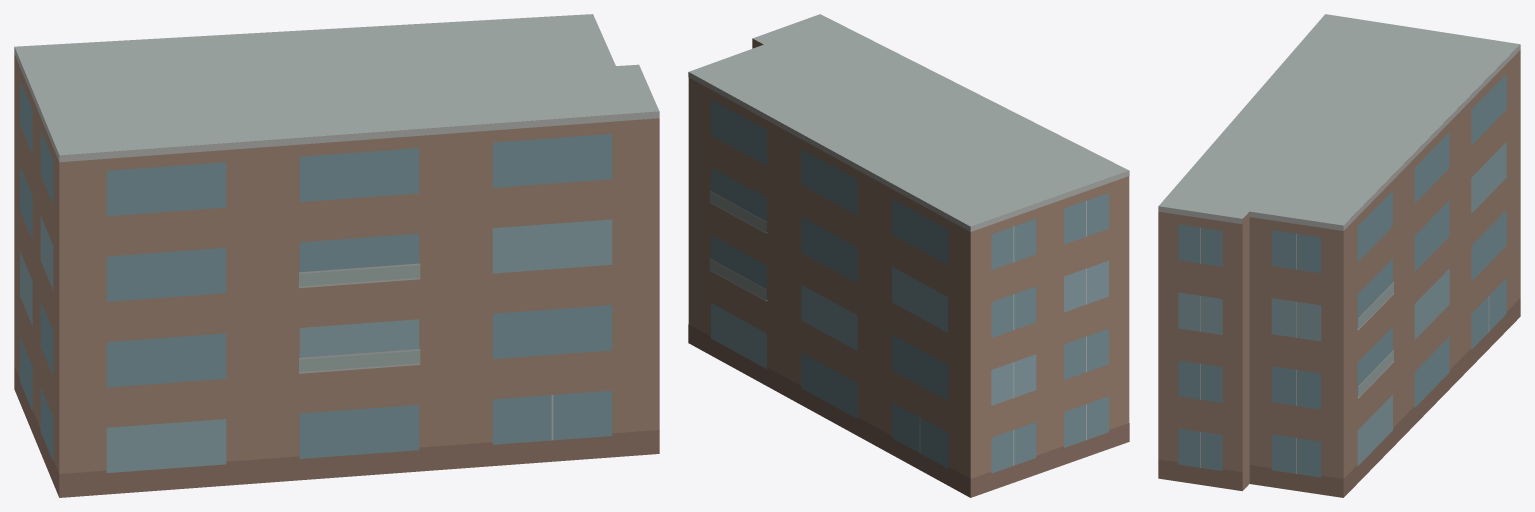
Rendered from survey-upis-32949781.glb.
3 renders of one model, left to right at view 1: azimuth 30°, elevation 25°; view 2: azimuth 150°, elevation 25°; view 3: azimuth 270°, elevation 25°, orthographic. The views are drawn at different scales.
Parts seen in each view (by area): view 1: survey-upis-32949781.tmp; view 2: survey-upis-32949781.tmp; view 3: survey-upis-32949781.tmp.
Boxes of the visible parts, <box> form: survey-upis-32949781.tmp: <box>14,14,659,497</box>; survey-upis-32949781.tmp: <box>688,14,1129,497</box>; survey-upis-32949781.tmp: <box>1158,14,1520,497</box>.
Size of the model in its own units: 20.34 by 12.2 by 14.71.
